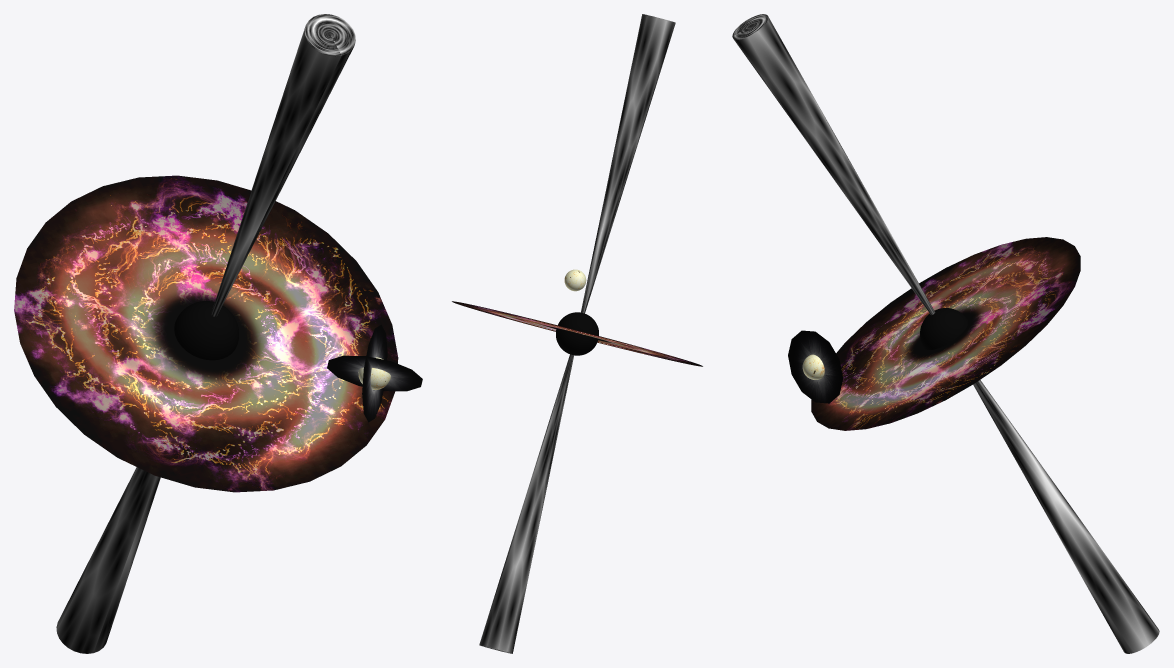
File: blackhole-fbx.fbx
3 views of the same model, side by side, from view 1: azimuth 30°, elevation 25°; view 2: azimuth 150°, elevation 25°; view 3: azimuth 270°, elevation 25° (orthographic). The views are drawn at different scales.
Visible parts, largest first — view 1: Accretion disk, Rays, Event horizon, Corona 1, Corona 2; view 2: Rays, Event horizon, Accretion disk, Star; view 3: Accretion disk, Rays, Corona 2, Event horizon.
Part boxes in pixels (<box>): Accretion disk: <box>14,175,398,492</box>; Rays: <box>56,14,355,653</box>; Event horizon: <box>174,301,238,360</box>; Corona 1: <box>327,355,422,391</box>; Corona 2: <box>362,324,387,422</box>; Rays: <box>479,14,675,653</box>; Event horizon: <box>556,312,598,355</box>; Accretion disk: <box>452,301,702,366</box>; Star: <box>564,269,586,291</box>; Accretion disk: <box>811,237,1080,430</box>; Rays: <box>732,14,1159,653</box>; Corona 2: <box>788,330,843,403</box>; Event horizon: <box>920,308,968,349</box>.
Size of what is drawn, in the model's own units: 12 by 26.78 by 16.39.
5 materials, 4 textured.
